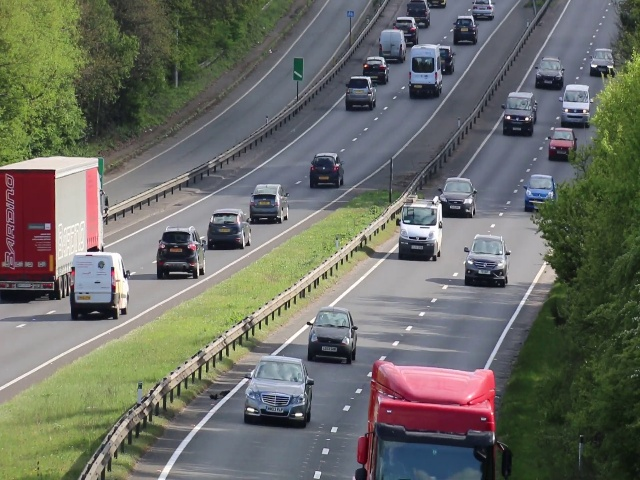car: (1, 154, 111, 297), (65, 250, 134, 324), (246, 355, 313, 429), (396, 197, 445, 257), (157, 228, 207, 281), (310, 307, 356, 363), (466, 232, 505, 285), (501, 90, 538, 136), (207, 211, 251, 248), (251, 182, 291, 222), (438, 175, 477, 215), (409, 45, 439, 95), (308, 150, 345, 189), (559, 86, 592, 124), (343, 76, 377, 112), (533, 54, 563, 90), (524, 171, 551, 210), (588, 43, 613, 79), (452, 14, 480, 44), (377, 29, 404, 59), (550, 126, 574, 159), (396, 16, 419, 45), (363, 56, 387, 83), (407, 1, 429, 26), (470, 1, 494, 17), (442, 44, 451, 75)
